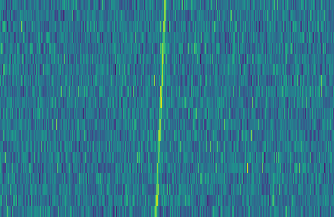signal: (150, 0, 169, 217)
